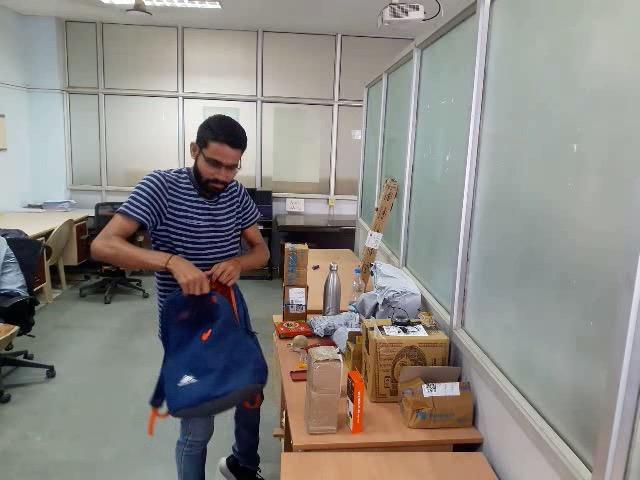shoplifting: (135, 251, 269, 448)
